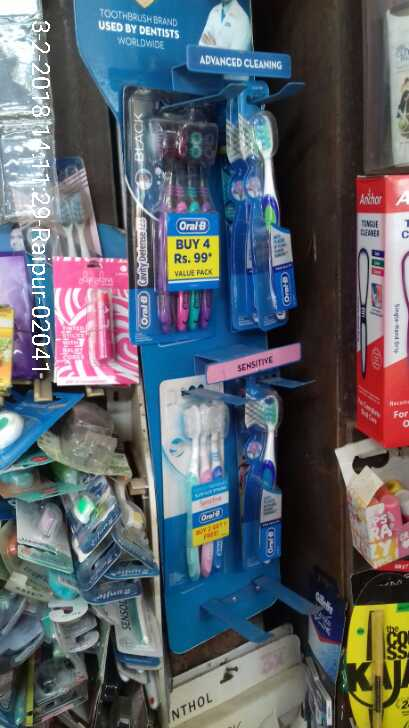oralb: (132, 100, 226, 334), (231, 105, 299, 336), (173, 392, 237, 580), (241, 387, 287, 573)
